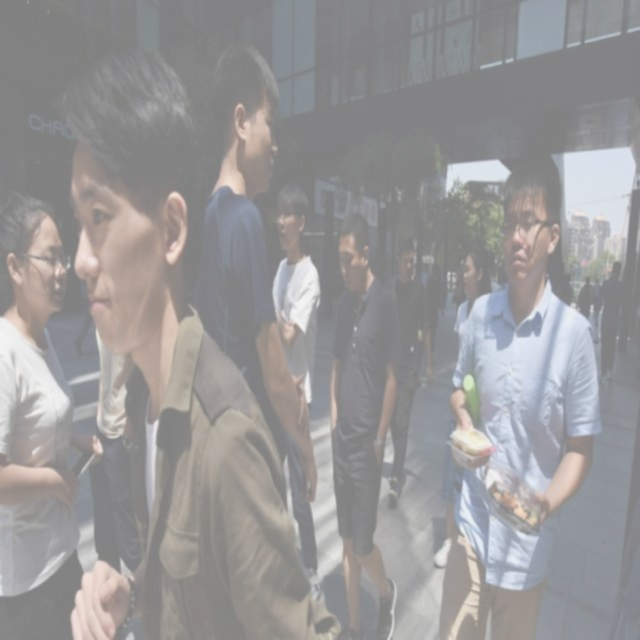pessoa: (56, 38, 357, 639), (432, 152, 606, 639), (194, 38, 320, 508), (0, 185, 110, 639), (327, 209, 405, 639), (270, 181, 324, 596), (433, 246, 493, 569), (377, 233, 435, 507), (88, 323, 146, 576), (594, 256, 626, 384), (424, 260, 445, 358), (574, 274, 594, 321), (454, 256, 468, 314), (486, 247, 502, 293), (592, 275, 604, 330), (562, 270, 574, 306)
